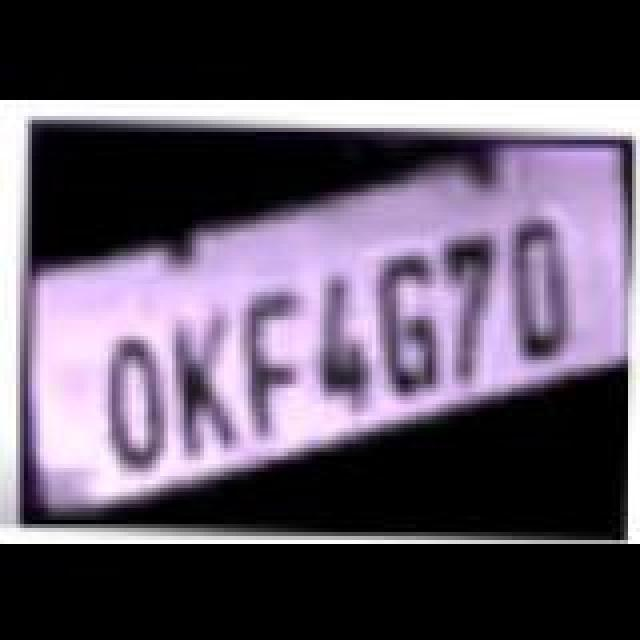4: (296, 266, 392, 414)
7: (430, 228, 530, 380)
D: (500, 212, 588, 356)
F: (230, 282, 338, 438)
G: (362, 246, 462, 394)
K: (154, 310, 262, 458)
O: (88, 330, 184, 470)
